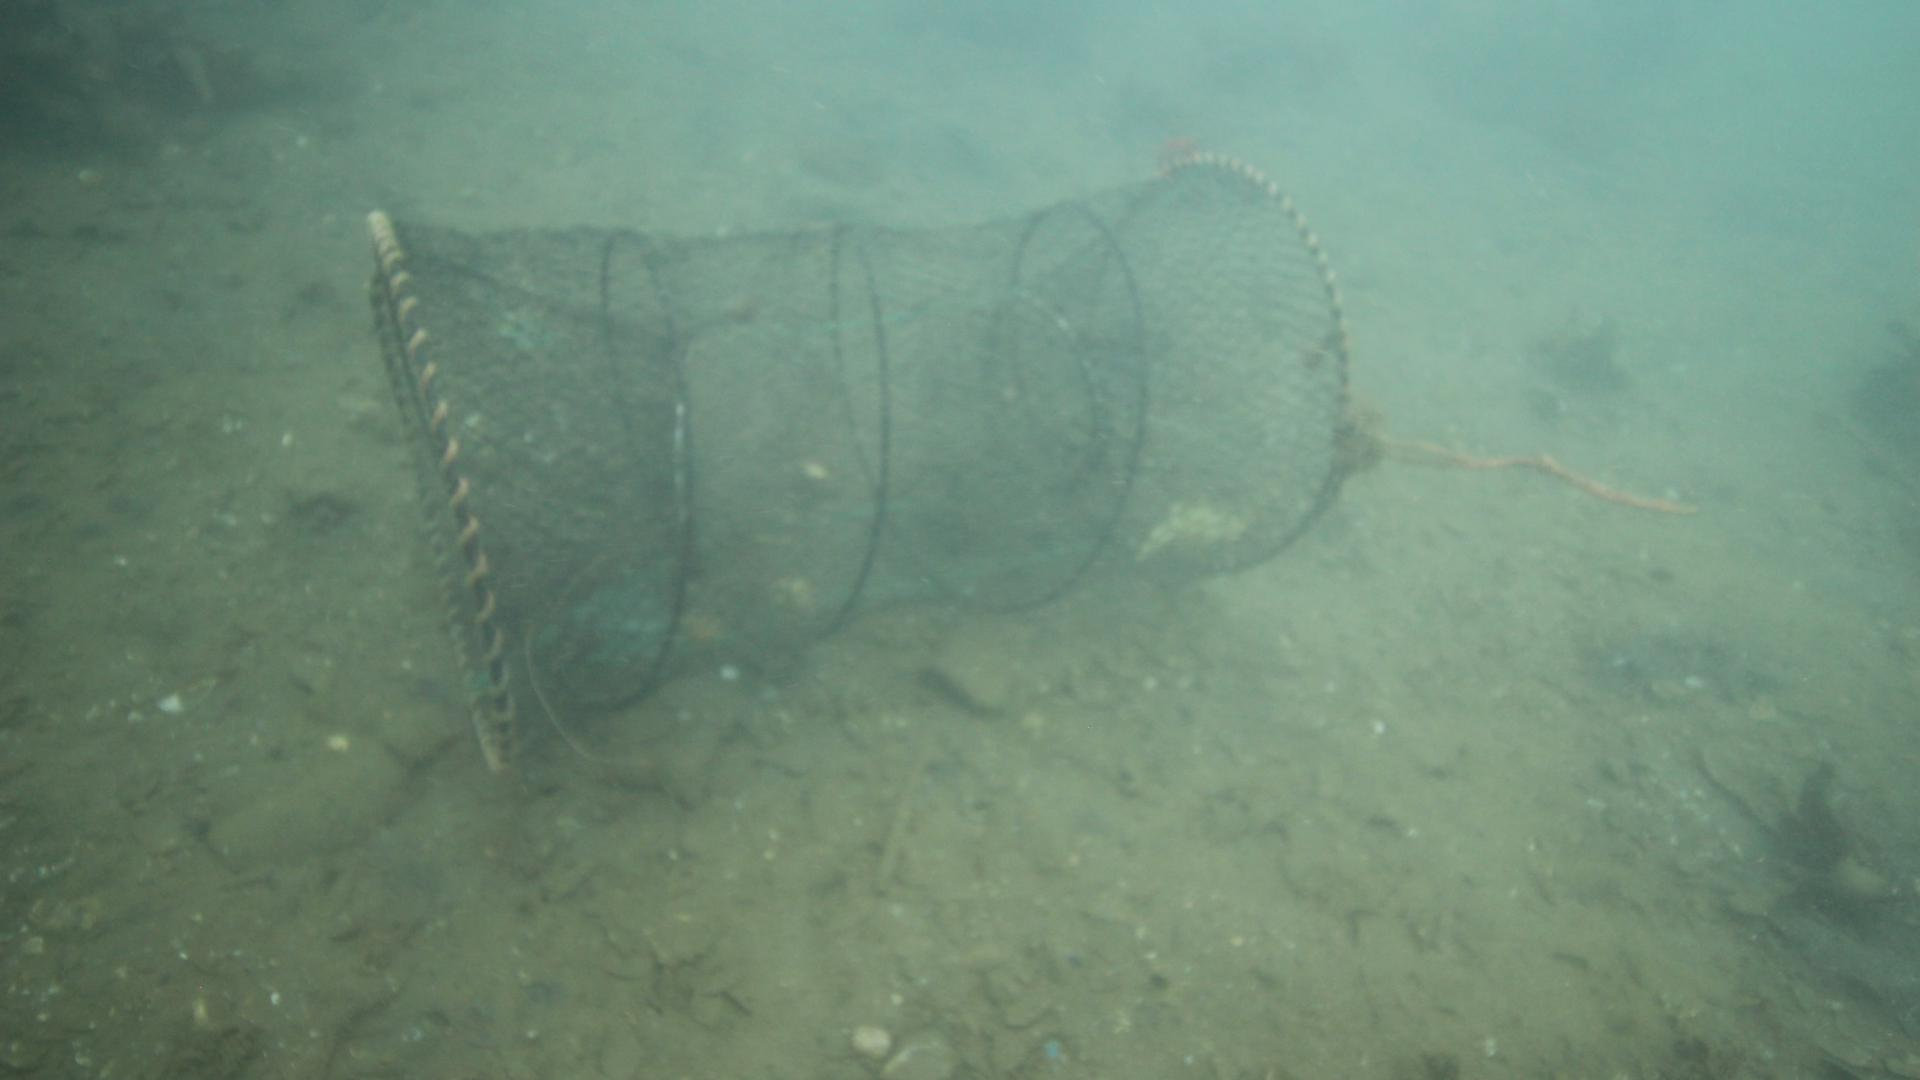bundle of ropes: (1371, 425, 1698, 516)
spring fish trap: (364, 146, 1364, 771)
